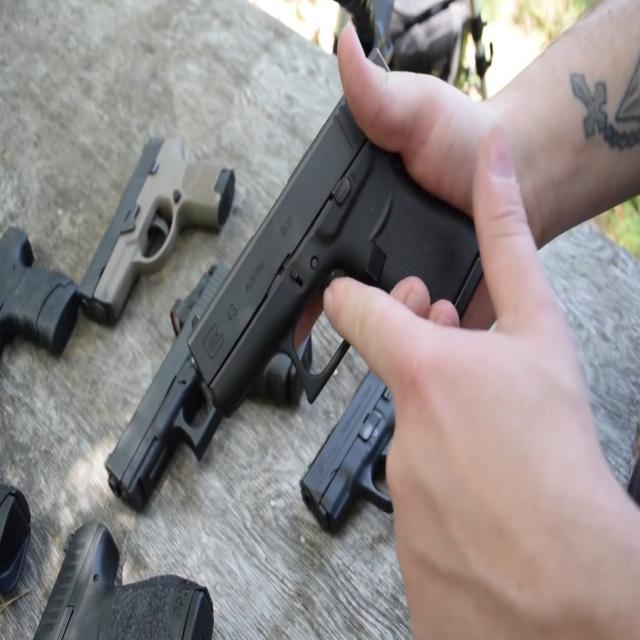handgun: (188, 67, 519, 453), (107, 259, 326, 522), (70, 117, 254, 352), (287, 329, 462, 575)
